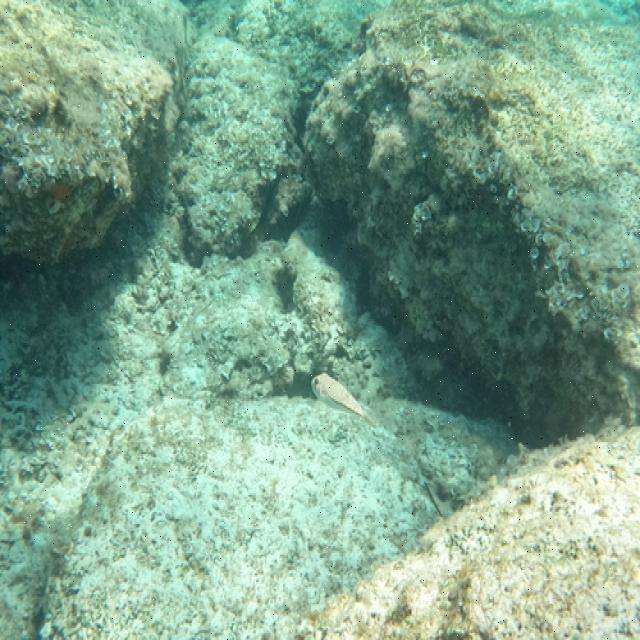Balik: (312, 374, 376, 426)
